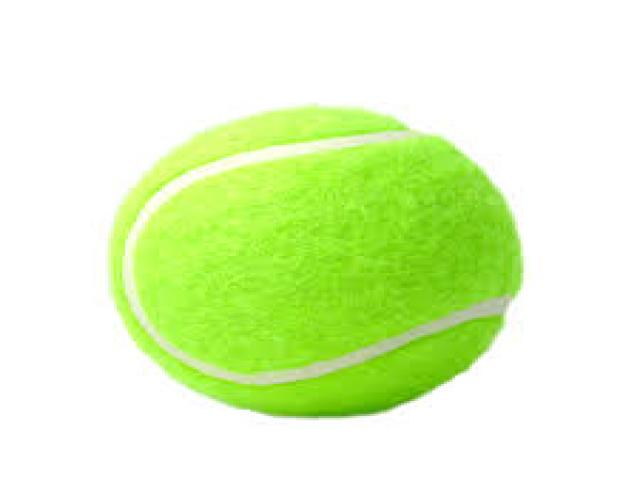tennis-ball: (102, 100, 524, 418)
